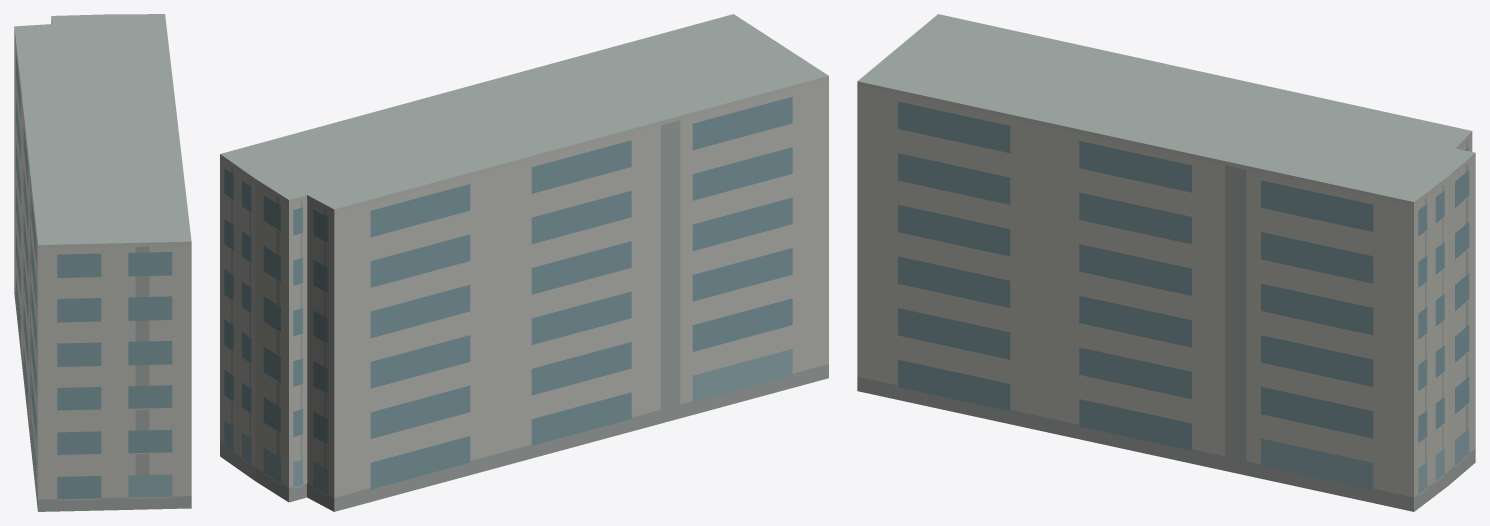
File: survey-upis-32893759.glb
3 views of the same model, side by side, from view 1: azimuth 30°, elevation 25°; view 2: azimuth 150°, elevation 25°; view 3: azimuth 270°, elevation 25° (orthographic). The views are drawn at different scales.
Parts seen in each view (by area): view 1: survey-upis-32893759.tmp; view 2: survey-upis-32893759.tmp; view 3: survey-upis-32893759.tmp.
Boxes of the visible parts, <box> form: survey-upis-32893759.tmp: <box>14,14,191,511</box>; survey-upis-32893759.tmp: <box>220,14,828,511</box>; survey-upis-32893759.tmp: <box>857,14,1475,511</box>.
Size of the model in its own units: 22.6 by 17.35 by 31.39.
